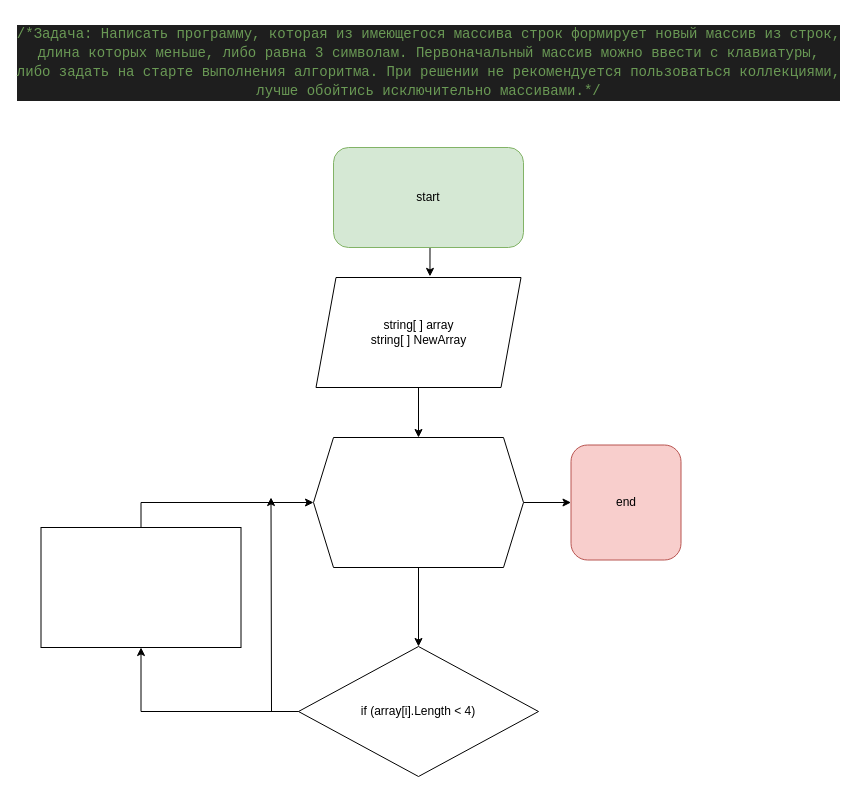
This 857x794 diagram has some shape labels left out. Here are the shapes that lost their labels. From the top down, the centre of each, then its label:
point (418, 502): for( int i = 0; i < array.Length; i++)
point (140, 587): NewArray [i] = array [i]
